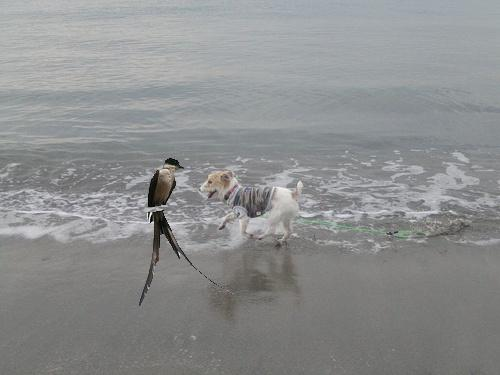tampered: (140, 59, 237, 306)
